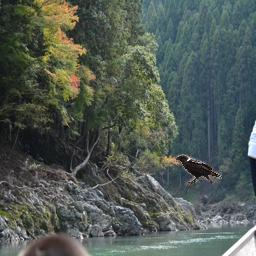Crow: (175, 154, 222, 186)
